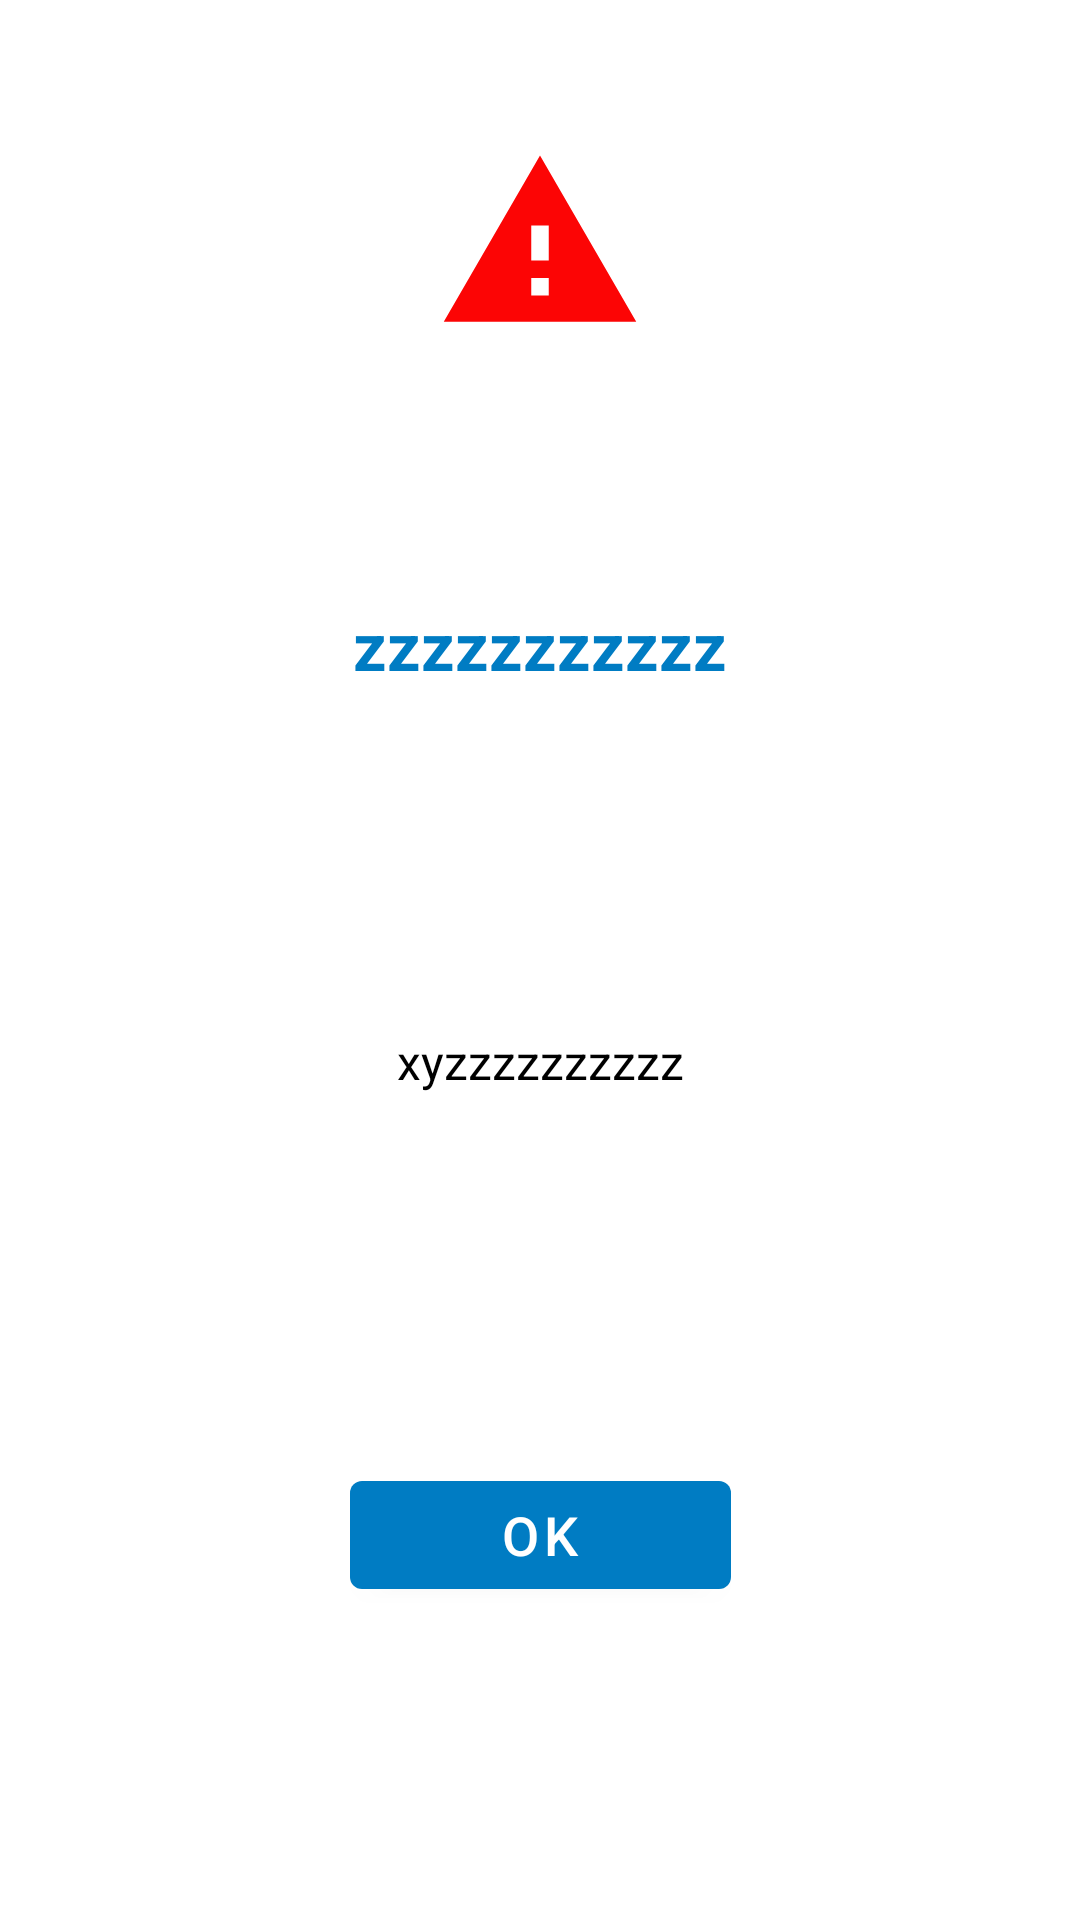

Point at icon controls on the screen. Image size 1080px x 1920px, points as (x=x, y=y).
warning: (x=540, y=239)
